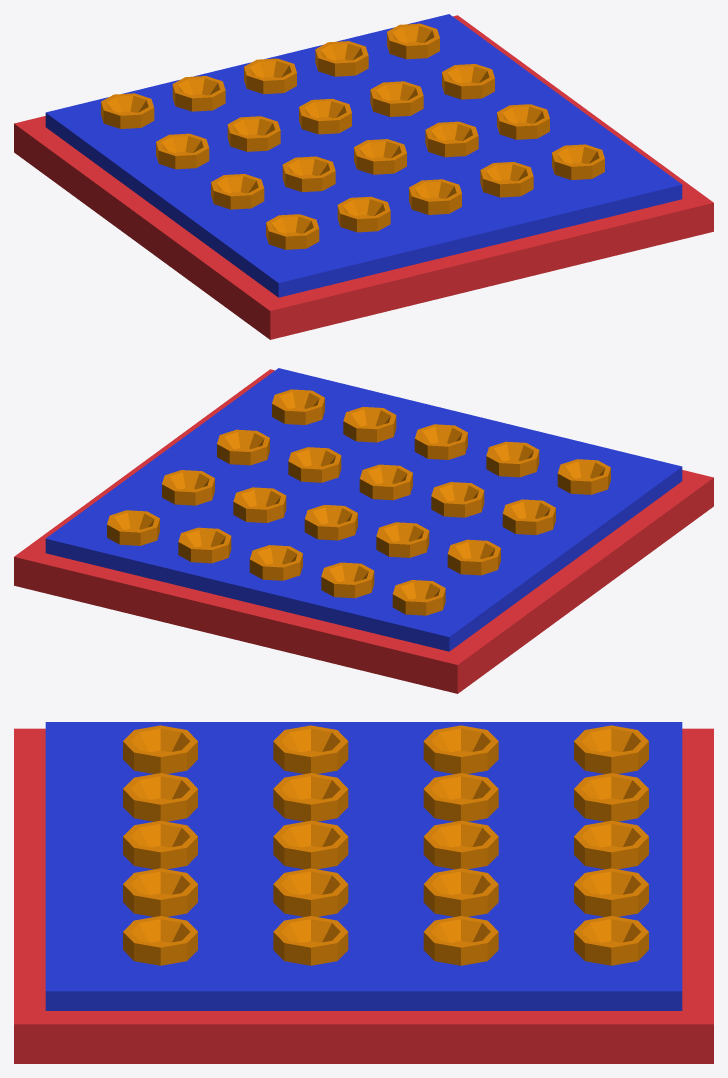
Rendered from engel3.fbx.
3 views of the same model, one above another, from view 1: azimuth 30°, elevation 25°; view 2: azimuth 150°, elevation 25°; view 3: azimuth 270°, elevation 25° (orthographic). The views are drawn at different scales.
Visible parts, largest first — view 1: Cube.001; view 2: Cube.001; view 3: Cube.001.
Part boxes in pixels (box(x1,y1,x2,y2)): Cube.001: box(14, 14, 713, 339); Cube.001: box(14, 368, 713, 693); Cube.001: box(14, 722, 713, 1063).
Size of the model in its own units: 285 by 34.84 by 285.
